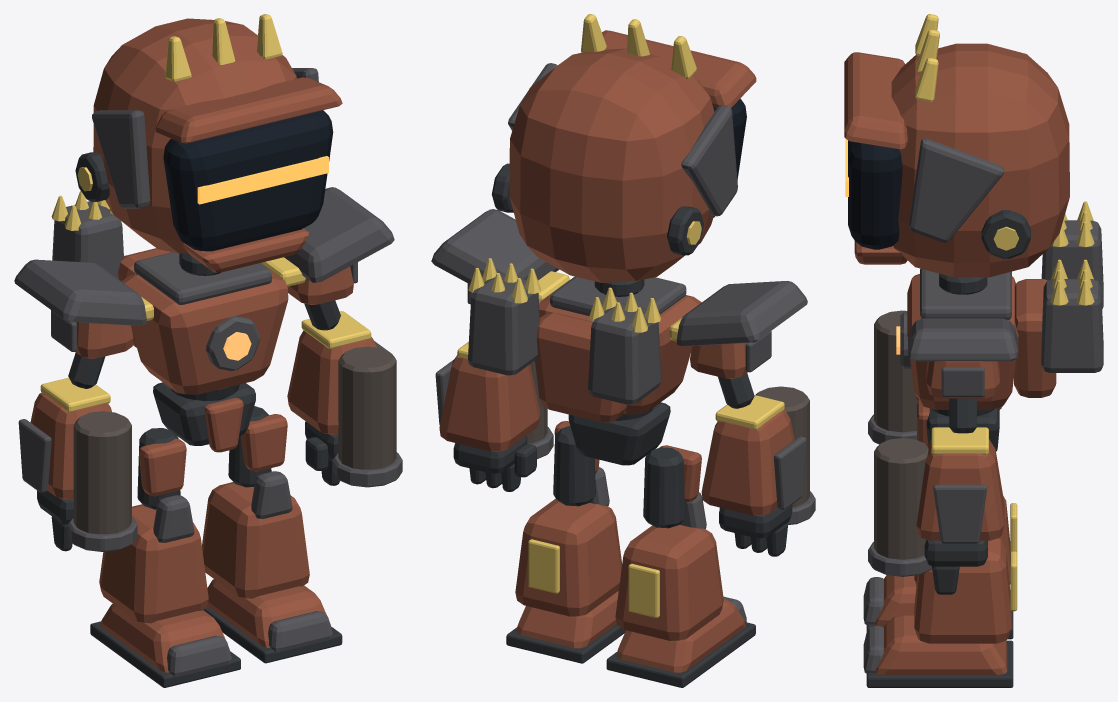
File: canhoneiro.glb
3 views of the same model, side by side, from view 1: azimuth 30°, elevation 25°; view 2: azimuth 150°, elevation 25°; view 3: azimuth 270°, elevation 25° (orthographic).
Parts seen in each view (by area): view 1: cabeca_p, visor, tronco_p, bota, bota.001, canhao.001, canhao, testa, ombreira.001, ombreira, antebraco, placa_lado.001 (+40 smaller); view 2: cabeca_p, bota.001, bota, antebraco, antebraco.001, ombreira.001, mochila, casulo.001, casulo, ombreira, pe.001, placa_lado.001 (+30 smaller); view 3: cabeca_p, bota, placa_lado, canhao, visor, testa, casulo, pe, ombreira, antebraco, canhao.001, mochila (+28 smaller).
Boxes of the visible parts, x1,y1,x2,y2 form: cabeca_p: (93, 18, 296, 253); visor: (163, 110, 333, 251); tronco_p: (121, 263, 288, 394); bota: (202, 482, 309, 598); bota.001: (99, 504, 208, 623); canhao.001: (73, 411, 131, 534); canhao: (338, 346, 396, 469); testa: (155, 77, 342, 143); ombreira.001: (14, 259, 146, 325); ombreira: (284, 187, 394, 282); antebraco: (287, 330, 376, 434); placa_lado.001: (92, 110, 150, 208); cabeca_p: (509, 48, 714, 282); bota.001: (615, 524, 723, 641); bota: (515, 498, 622, 616); antebraco: (439, 355, 540, 451); antebraco.001: (701, 410, 794, 515); ombreira.001: (676, 281, 807, 346); mochila: (535, 313, 626, 422); casulo.001: (588, 303, 661, 404); casulo: (468, 274, 539, 375); ombreira: (431, 209, 559, 284); pe.001: (616, 599, 745, 672); placa_lado.001: (681, 105, 737, 216); cabeca_p: (891, 43, 1069, 277); bota: (914, 538, 1011, 643); placa_lado: (909, 138, 1004, 242); canhao: (874, 438, 928, 559); visor: (848, 140, 902, 249); testa: (844, 52, 907, 149); casulo: (1041, 279, 1103, 372); pe: (874, 615, 1007, 674); ombreira: (908, 318, 1018, 361); antebraco: (916, 439, 1004, 540); canhao.001: (874, 310, 917, 432); mochila: (1014, 279, 1056, 397).
Size of the model in its own units: 0.692 by 1.18 by 0.4511.
